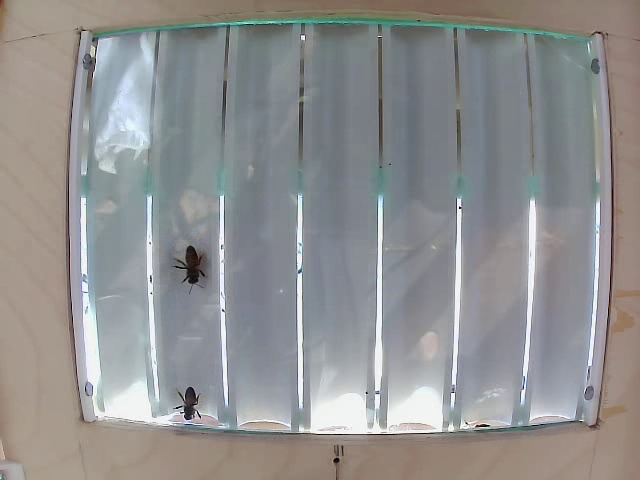bee: (171, 243, 210, 293), (174, 384, 205, 423)
